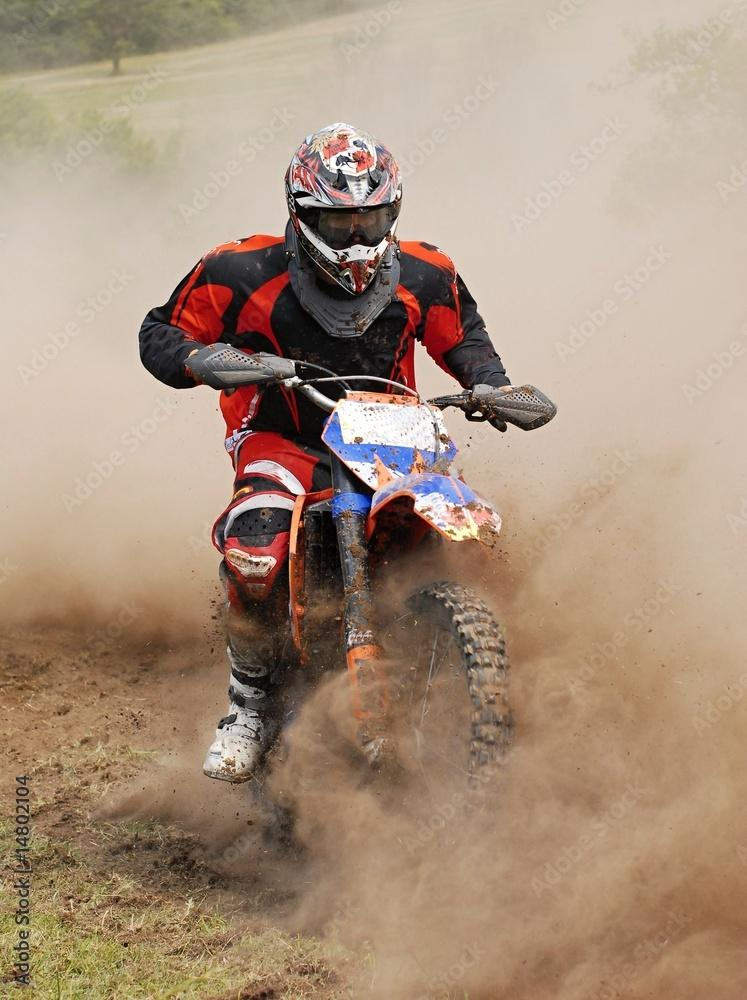helmet: (283, 121, 404, 298)
